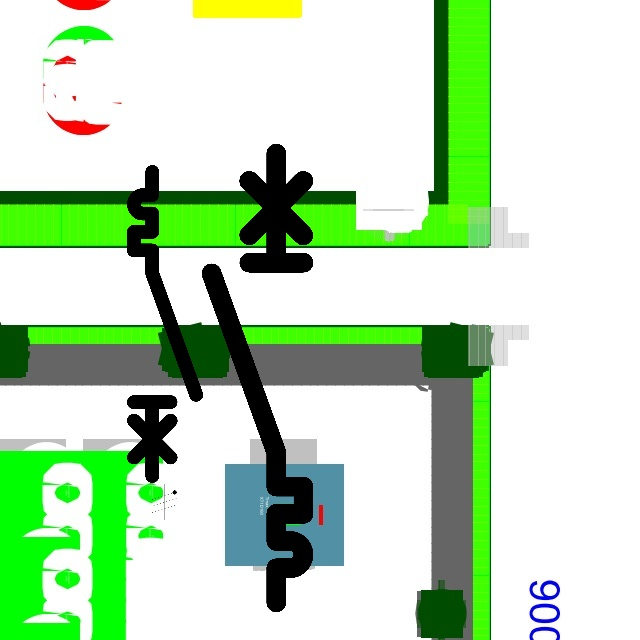interruptor_termomagnetico: (200, 142, 315, 614), (126, 164, 204, 483)
